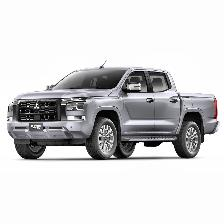NON-EV: (9, 61, 222, 162)
